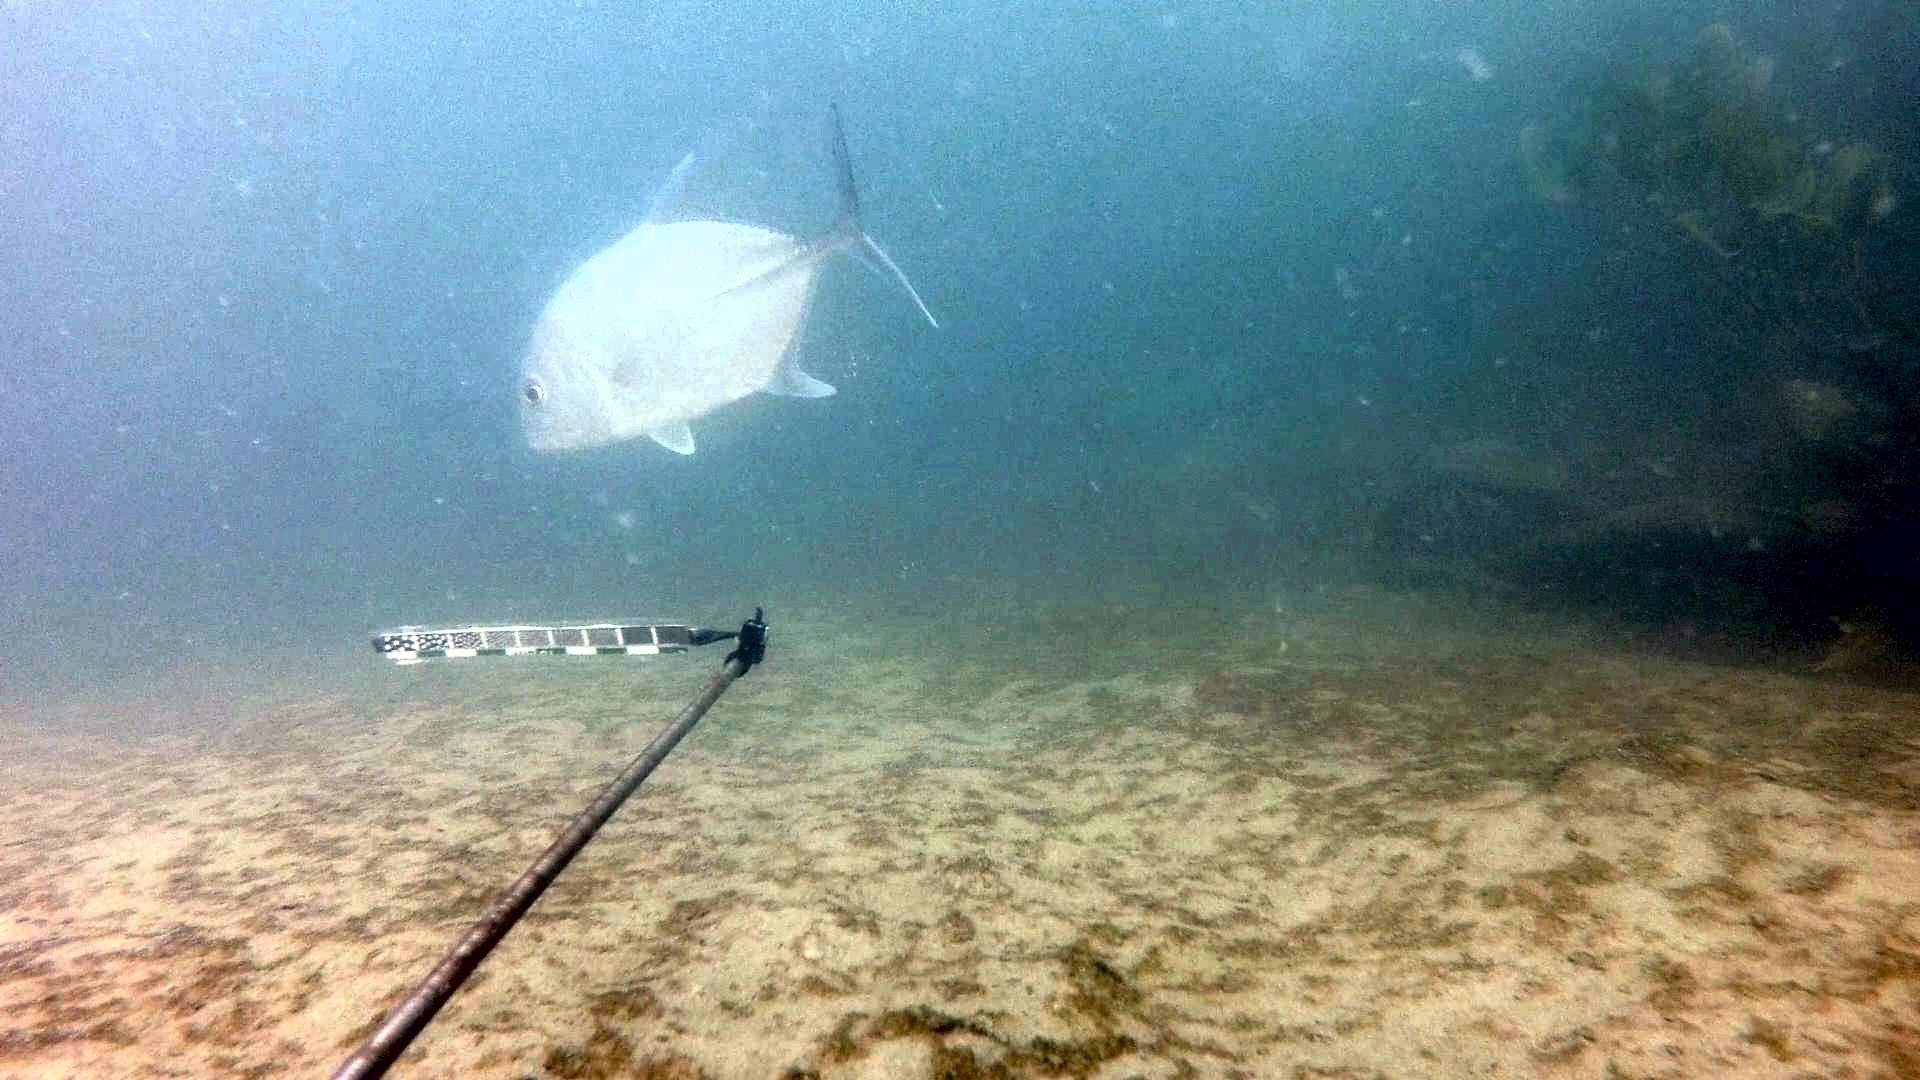caranx: (505, 88, 954, 469)
